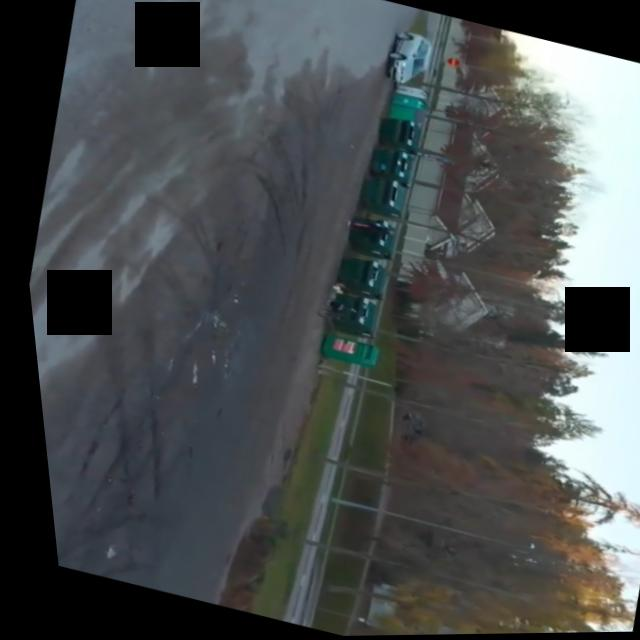Vehicle: (364, 23, 445, 96)
